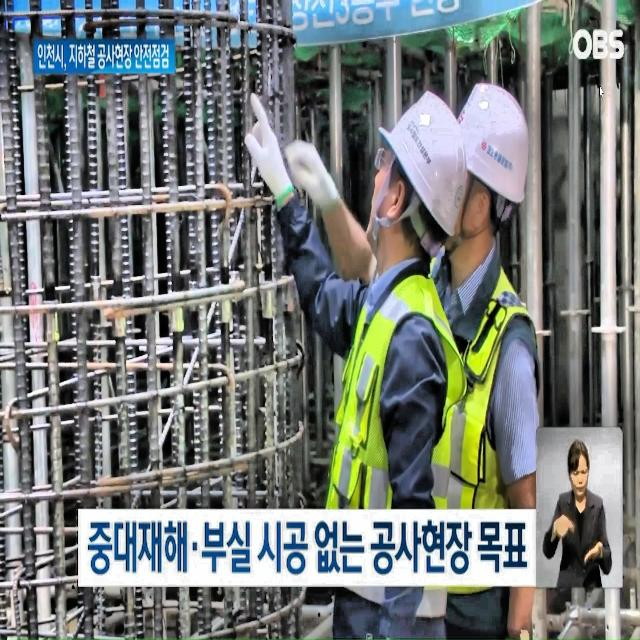safety_helmet: (379, 86, 469, 242), (452, 78, 530, 214)
safety_jacket: (319, 272, 460, 512), (444, 282, 536, 507)
